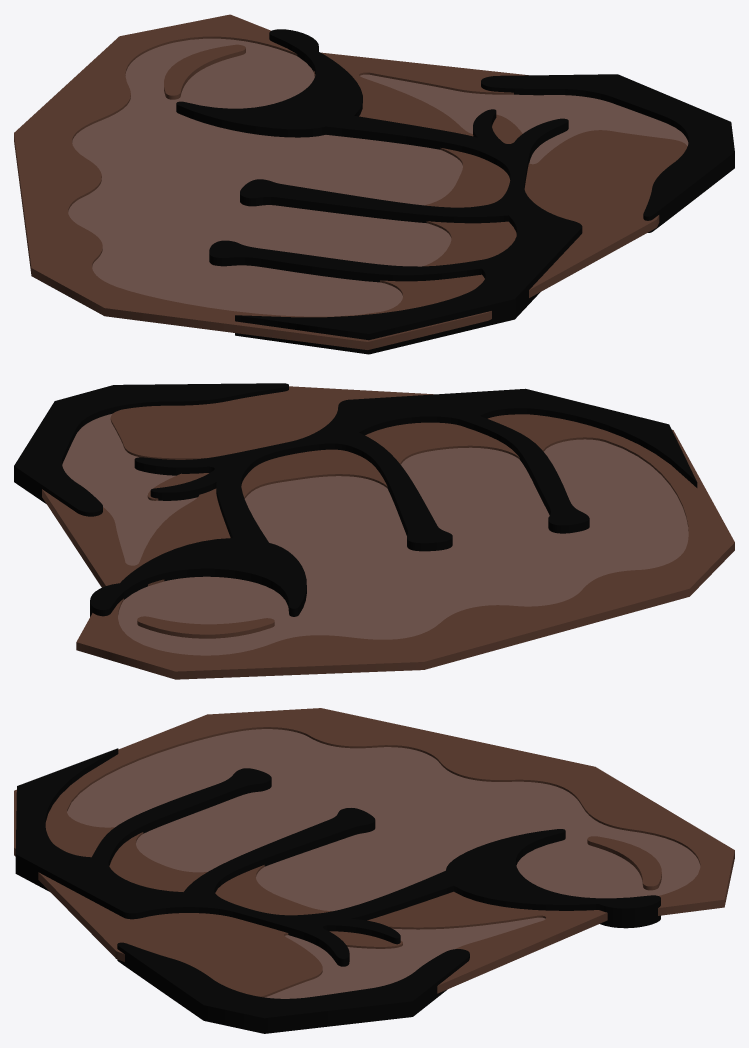
File: emoji_u1faf5_1f3ff.glb
The picture shows the model from 3 angles, top to bottom: view 1: azimuth 30°, elevation 25°; view 2: azimuth 150°, elevation 25°; view 3: azimuth 270°, elevation 25°; orthographic projection. The views are drawn at different scales.
Visible parts, largest first — view 1: emoji_u1faf5_1f3ff; view 2: emoji_u1faf5_1f3ff; view 3: emoji_u1faf5_1f3ff.
Boxes of the visible parts, x1,y1,x2,y2 form: emoji_u1faf5_1f3ff: (14,14,734,354); emoji_u1faf5_1f3ff: (14,383,734,679); emoji_u1faf5_1f3ff: (14,708,734,1033).
Bounding box in the file's own units: 0.0344 × 0.001 × 0.0333.
